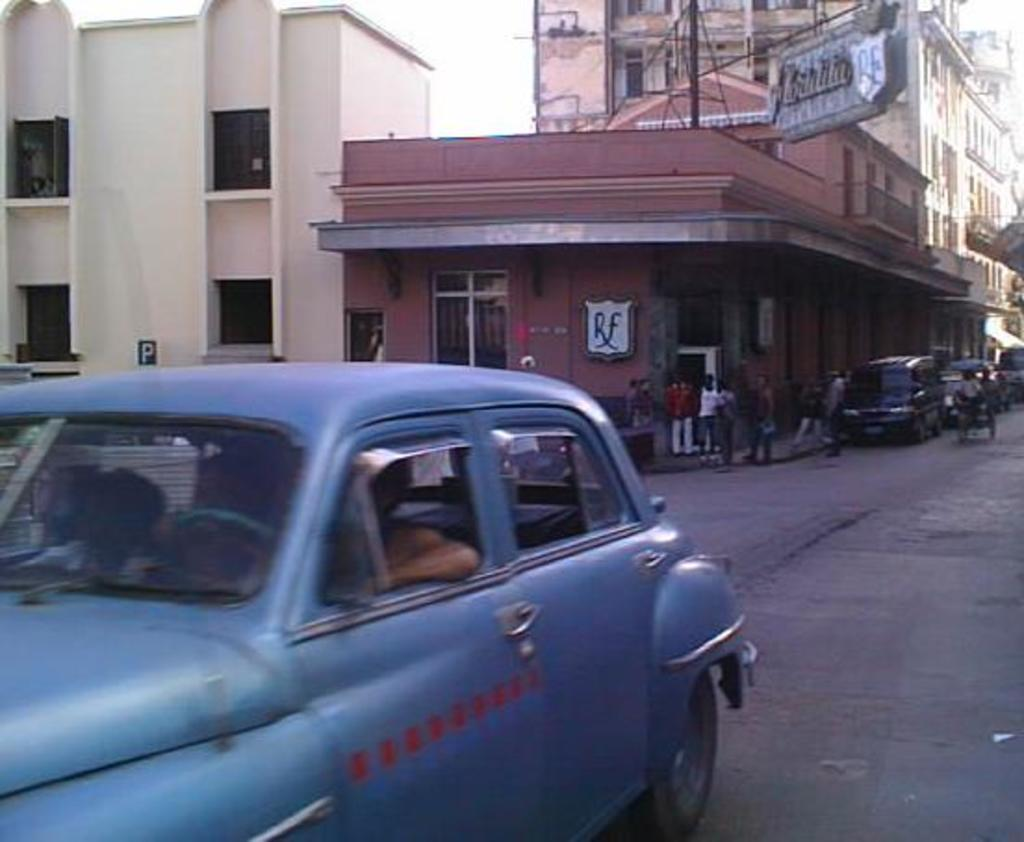person: (2, 463, 219, 597)
